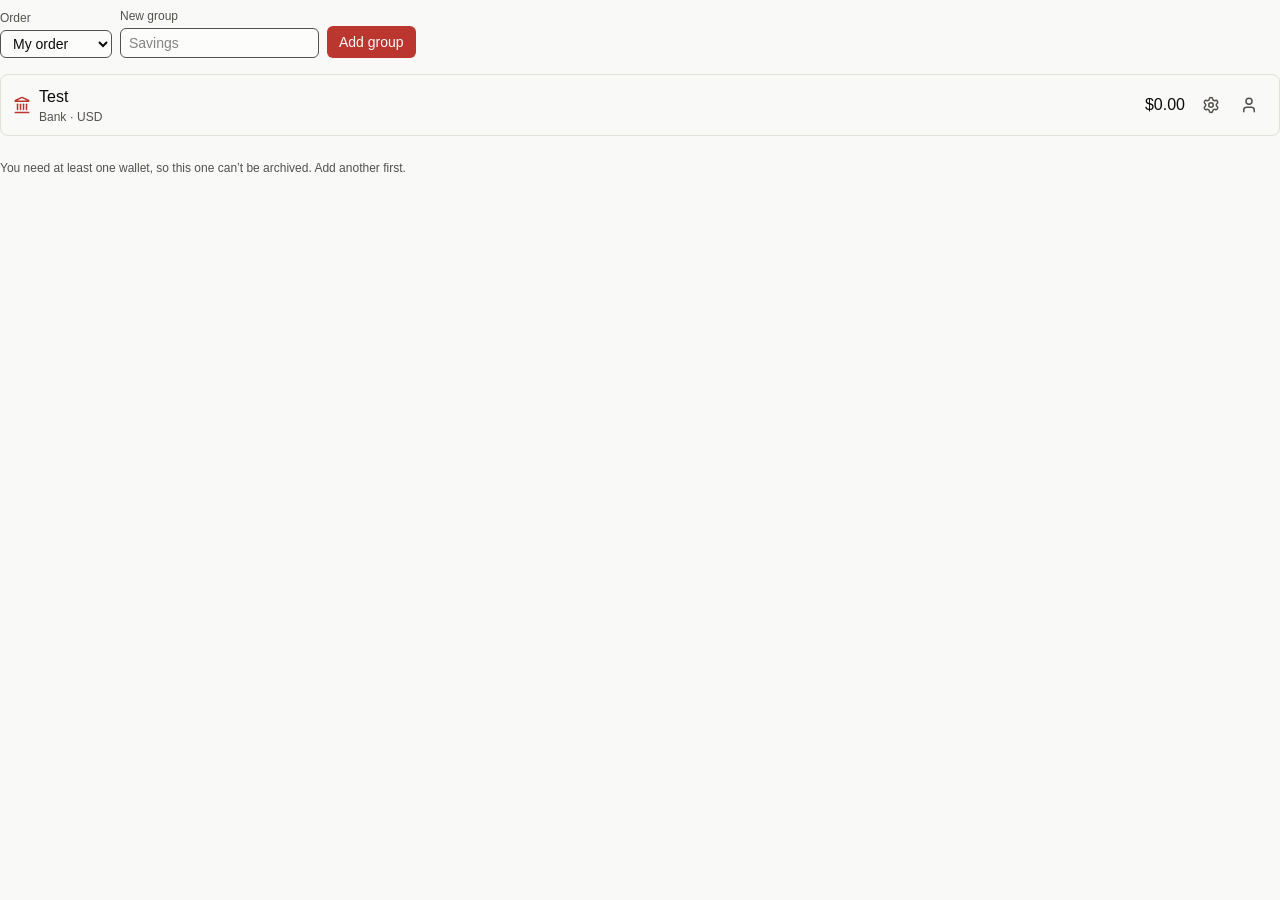
Test: WalletList — members and edit dialogs › opens the edit form for that wallet
This screenshot has width=1280, height=900.
Click the button named "Edit Test". click: (1211, 105)
box: 1193,83 -> 1229,127
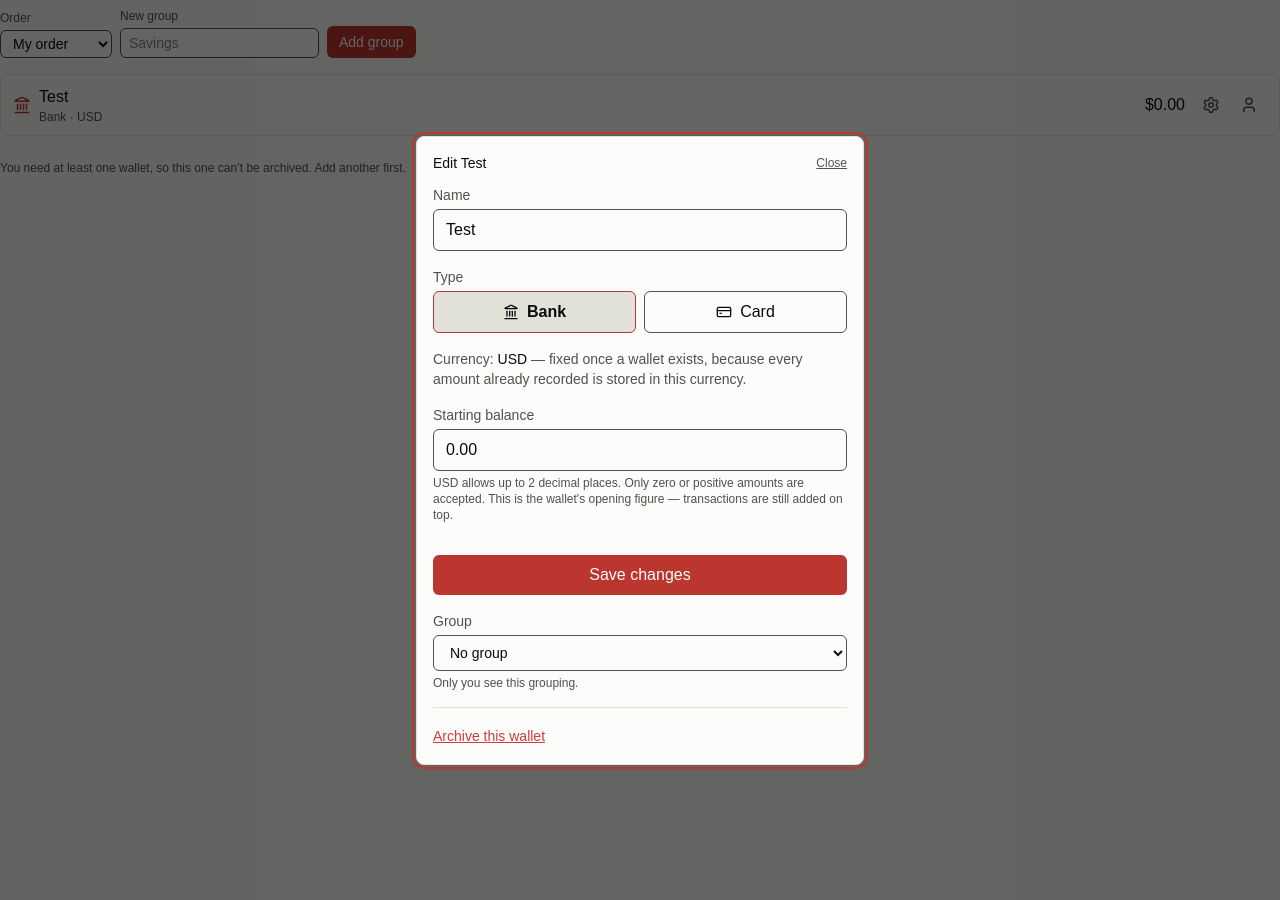
Expected: the dialog "Edit Test" is shown, 416,136 -> 864,764
Expected: the field labelled "Name" holds "Test", 433,208 -> 847,250
Expected: the button "Save changes" is shown, 433,554 -> 847,594
